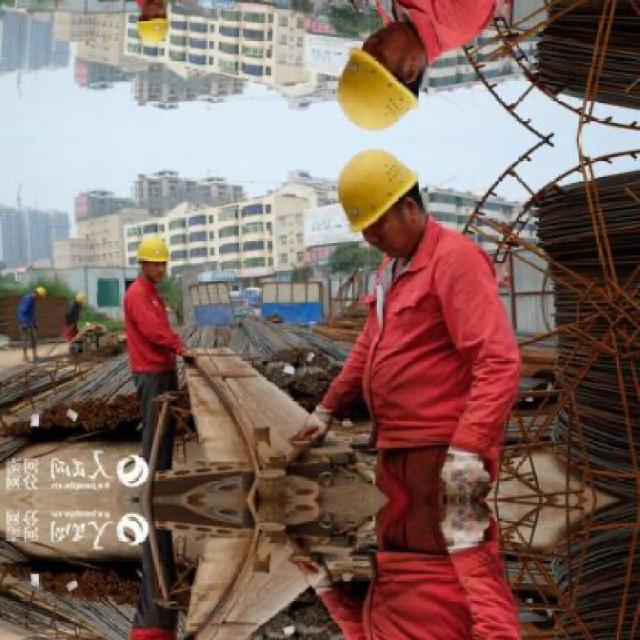con casco: (331, 137, 468, 300), (119, 208, 197, 309)
